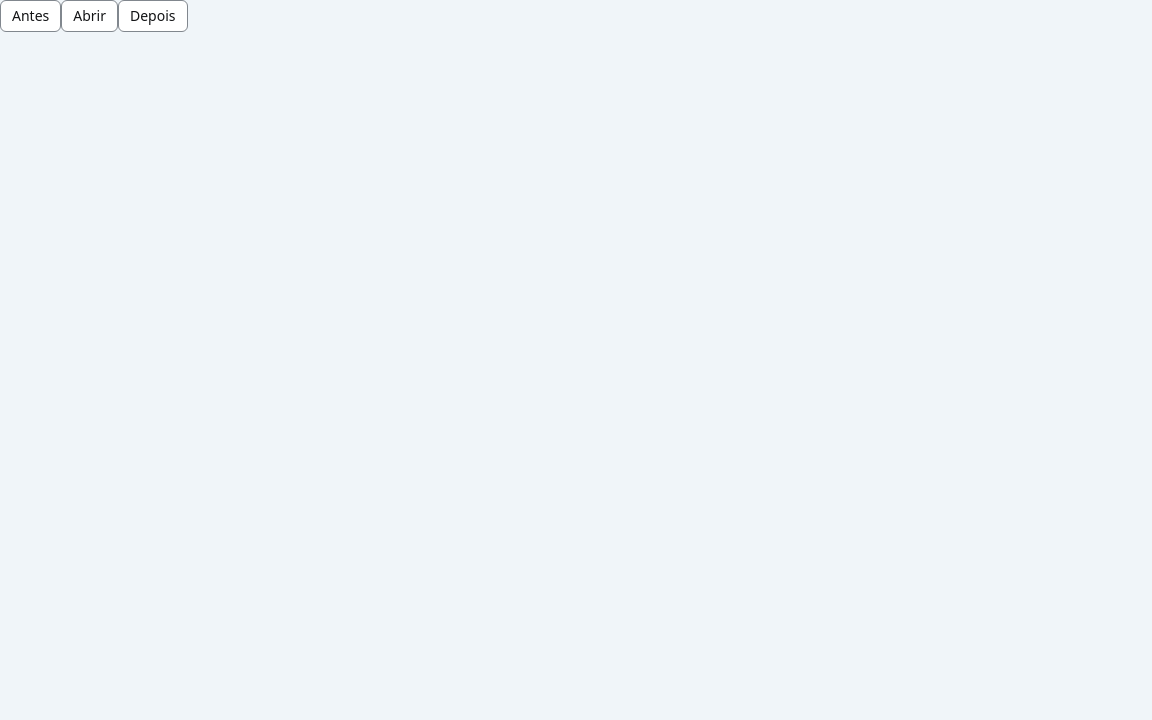
it: Dialog › sem controles, o foco fica no próprio diálogo com Tab e Shift+Tab; Esc fecha
Click the button "Abrir".
click(90, 16)  # box 61,0 -> 118,32
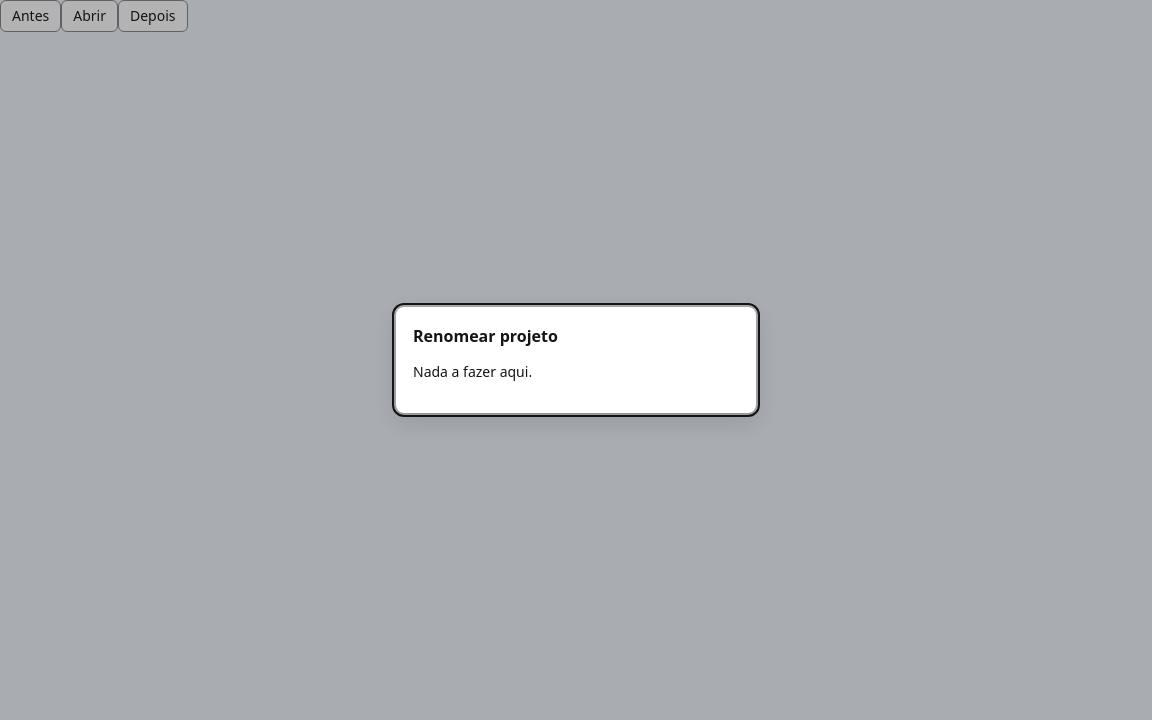
Press Tab
Press Shift+Tab
Press Escape
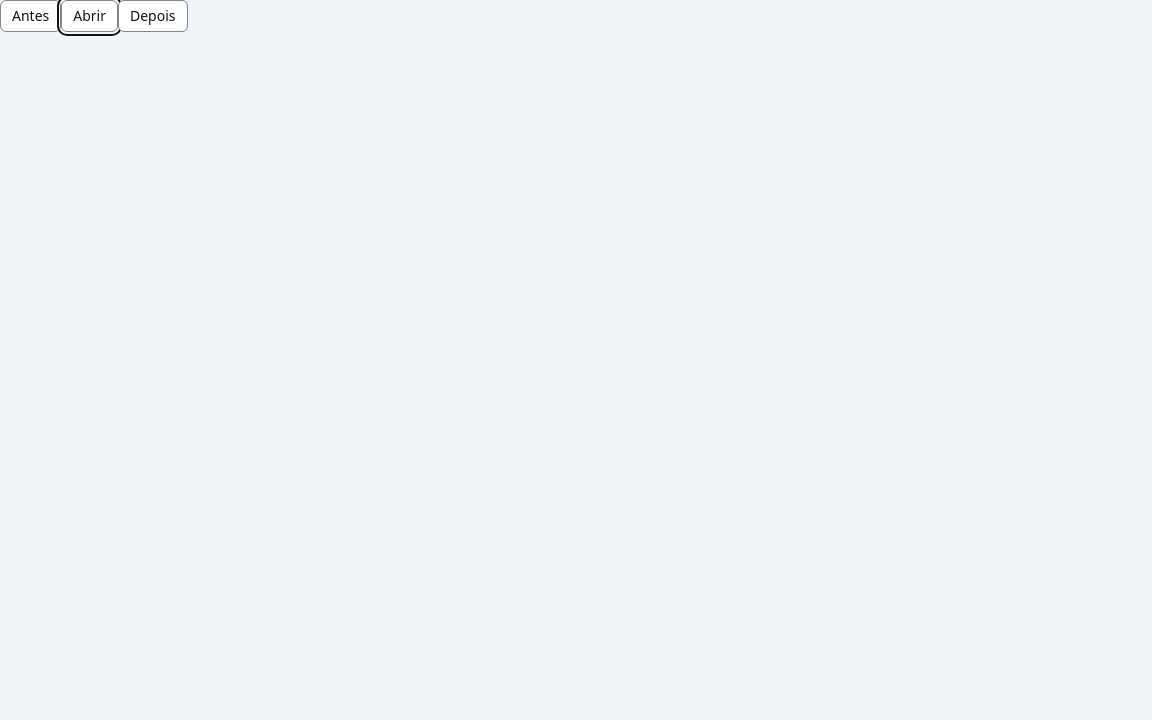
expect the dialog is gone: met
